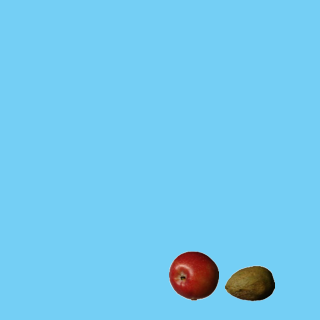Apple Braeburn: (168, 250, 218, 300)
Papaya: (224, 258, 274, 308)
